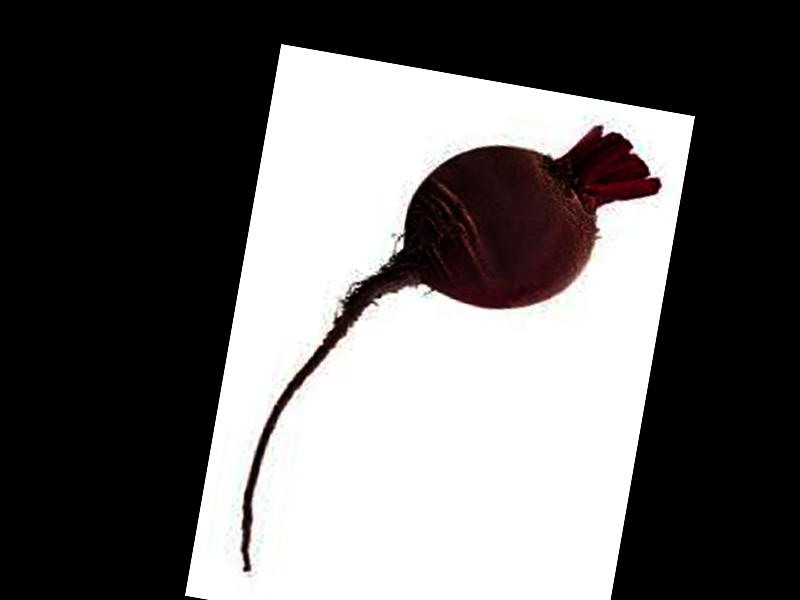Beet: (230, 79, 669, 600)
